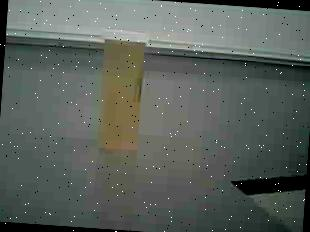Bottle A: (84, 18, 162, 178)
